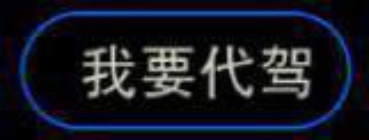Button: (1, 1, 368, 139)
